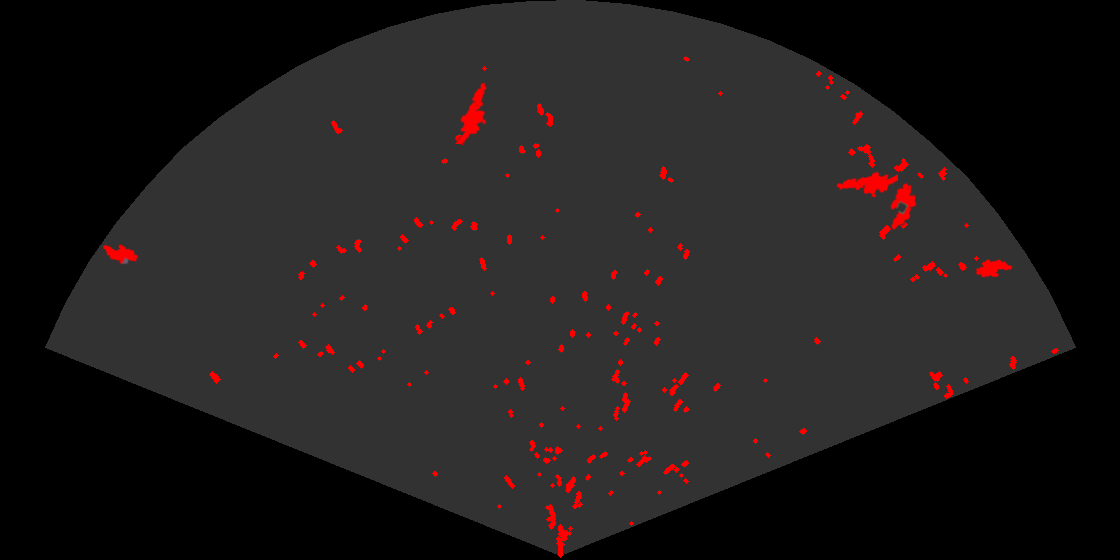AUV: (889, 181, 918, 231), (101, 243, 140, 266), (974, 258, 1014, 279)
frogman: (454, 81, 488, 144), (835, 170, 898, 199)
